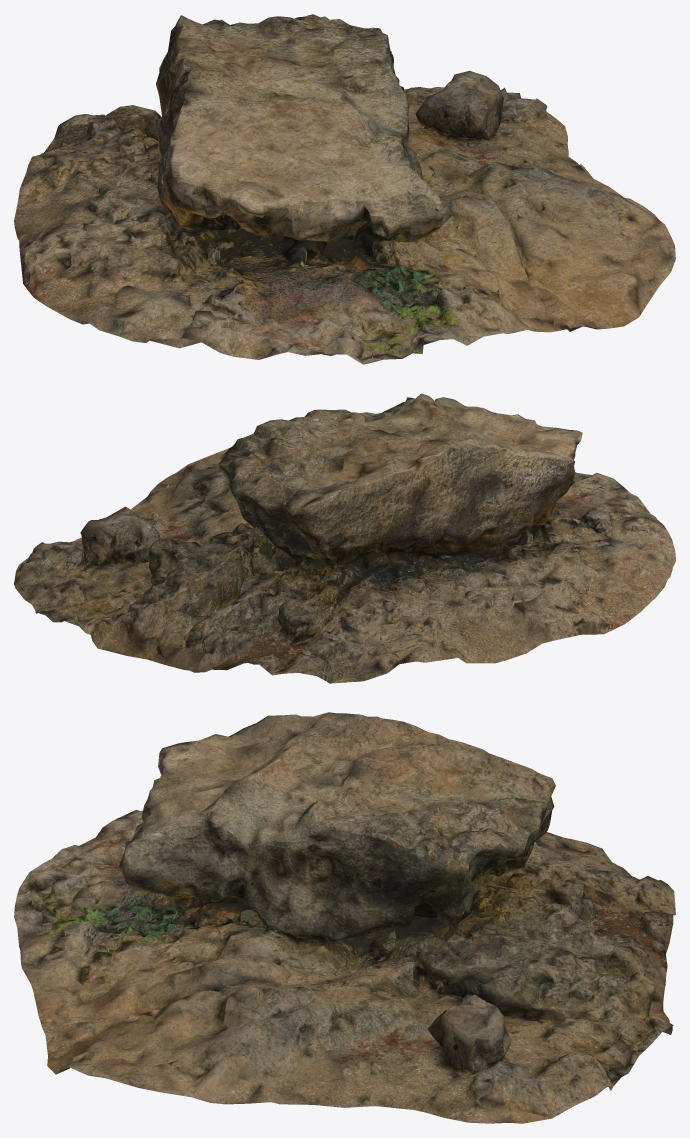
The model's file is coast_rocks_05.glb.
The picture shows the model from 3 angles, top to bottom: view 1: azimuth 30°, elevation 25°; view 2: azimuth 150°, elevation 25°; view 3: azimuth 270°, elevation 25°; orthographic projection. The views are drawn at different scales.
Parts seen in each view (by area): view 1: coast_rocks_05; view 2: coast_rocks_05; view 3: coast_rocks_05.
Part boxes in pixels (box(x1,y1,x2,y2)): coast_rocks_05: box(14, 14, 675, 364); coast_rocks_05: box(14, 393, 675, 683); coast_rocks_05: box(14, 712, 675, 1123).
Size of the model in its own units: 4.04 by 1.33 by 3.75.
1 material, 1 textured.
